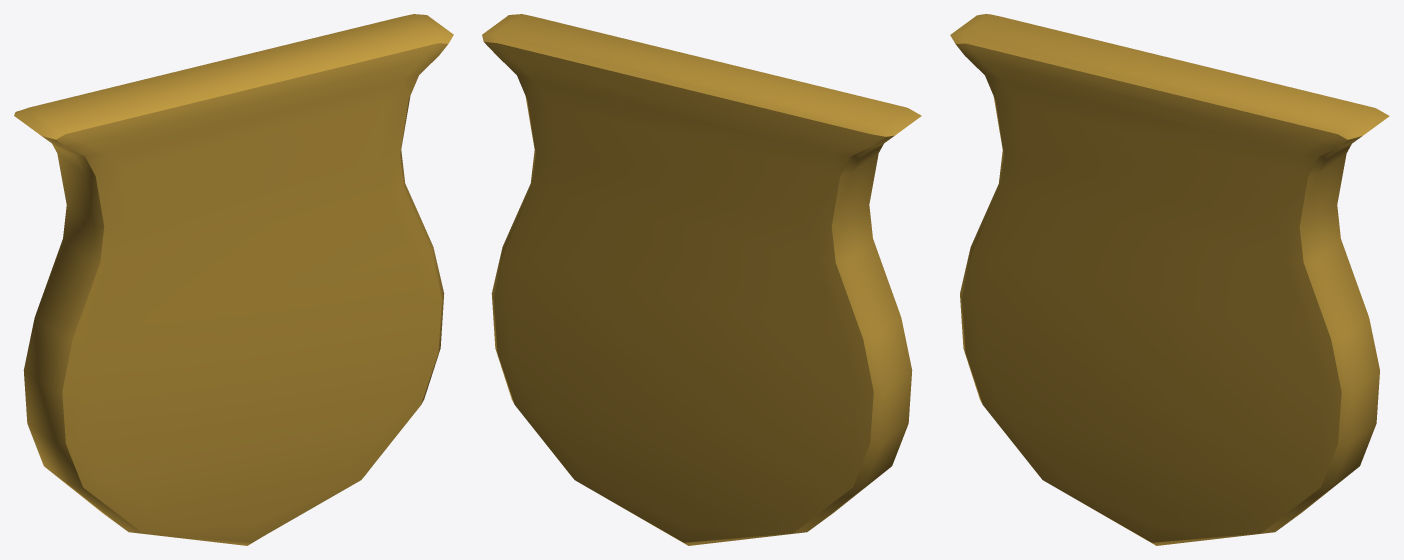
File: SM_emblem_police.fbx
The picture shows the model from 3 angles, left to right: view 1: azimuth 30°, elevation 25°; view 2: azimuth 150°, elevation 25°; view 3: azimuth 330°, elevation 25°; orthographic projection.
Parts seen in each view (by area): view 1: Object32430; view 2: Object32430; view 3: Object32430.
Part boxes in pixels (box(x1,y1,x2,y2)): Object32430: box(14, 14, 453, 545); Object32430: box(482, 14, 921, 545); Object32430: box(950, 14, 1389, 545).
Size of the model in its own units: 43.44 by 46.74 by 7.35.
